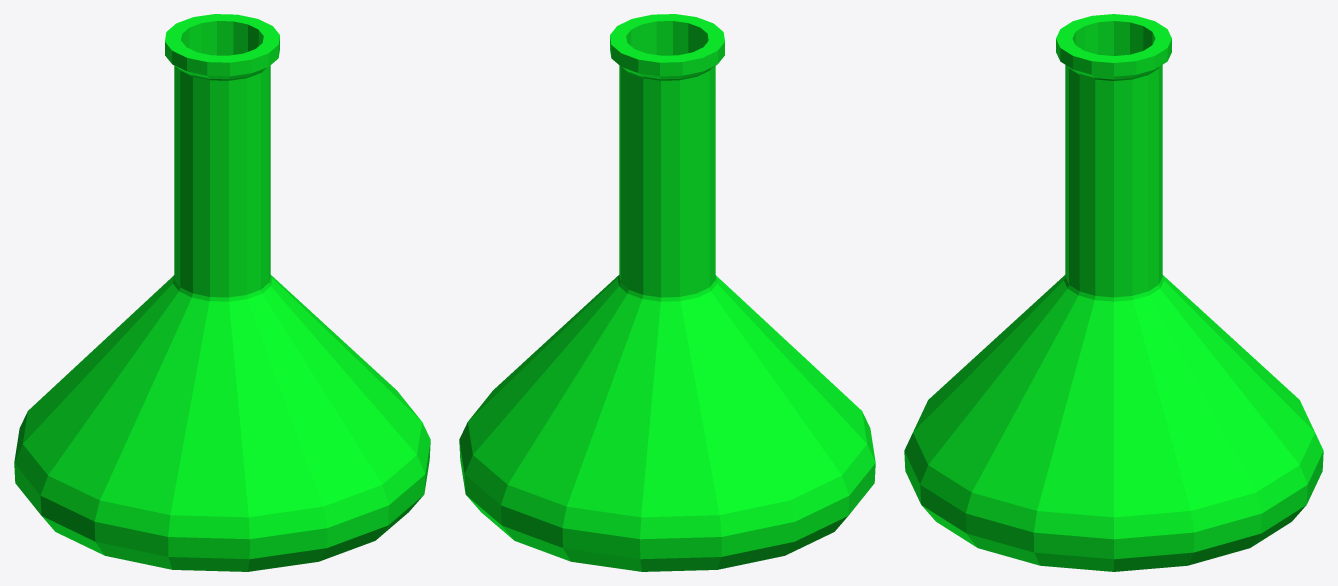
Rendered from fioleGreen.fbx.
3 renders of one model, left to right at view 1: azimuth 30°, elevation 25°; view 2: azimuth 150°, elevation 25°; view 3: azimuth 270°, elevation 25°, orthographic.
Parts seen in each view (by area): view 1: MSH_Fiole4; view 2: MSH_Fiole4; view 3: MSH_Fiole4.
Part boxes in pixels (<box>): MSH_Fiole4: <box>14,14,430,571</box>; MSH_Fiole4: <box>459,14,875,571</box>; MSH_Fiole4: <box>904,14,1323,571</box>.
Size of the model in its own units: 1.68 by 2.06 by 1.68.
